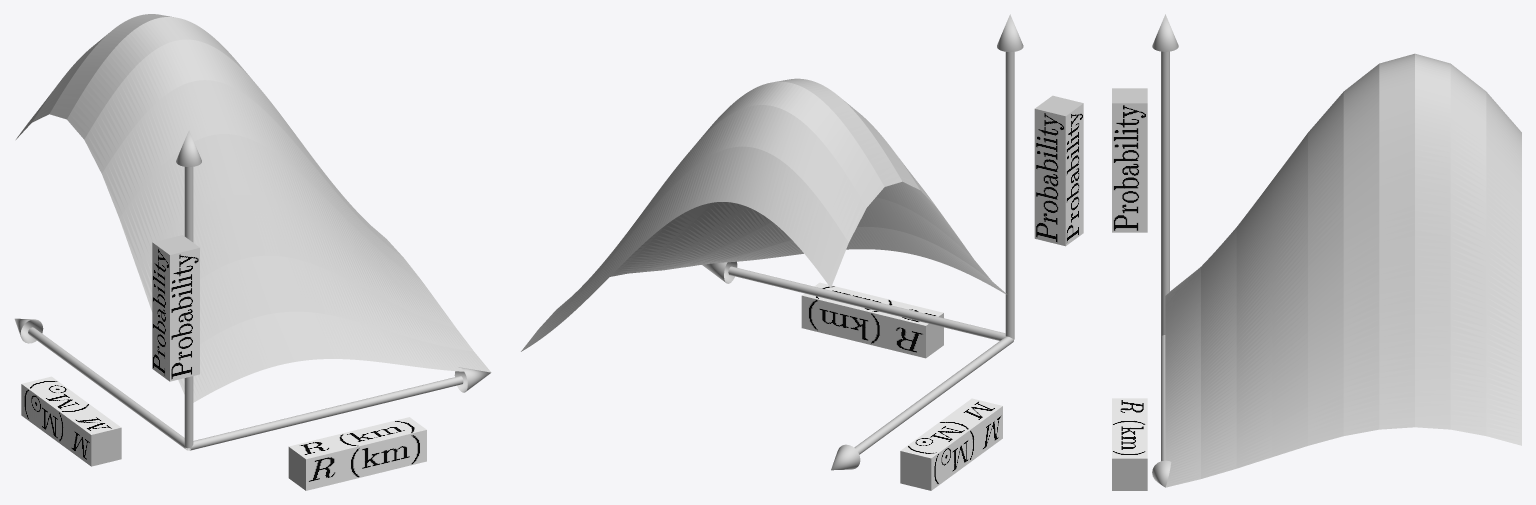
The model's file is den_plot.gltf.
3 renders of one model, left to right at view 1: azimuth 30°, elevation 25°; view 2: azimuth 150°, elevation 25°; view 3: azimuth 270°, elevation 25°, orthographic. The views are drawn at different scales.
Parts seen in each view (by area): view 1: plot, z_title, x_title, y_title, x_axis1, y_axis1, z_axis1; view 2: plot, z_title, x_title, y_title, z_axis1, x_axis1, y_axis1; view 3: plot, z_title, x_title, z_axis1, x_axis1.
Part boxes in pixels (x1=…): plot: x1=16, y1=14, x2=490, y2=402; z_title: x1=152, y1=235, x2=199, y2=381; x_title: x1=288, y1=417, x2=426, y2=490; y_title: x1=21, y1=376, x2=121, y2=466; x_axis1: x1=188, y1=367, x2=490, y2=450; y_axis1: x1=14, y1=318, x2=191, y2=450; z_axis1: x1=176, y1=130, x2=201, y2=448; plot: x1=521, y1=78, x2=1006, y2=351; z_title: x1=1034, y1=95, x2=1083, y2=246; x_title: x1=801, y1=282, x2=943, y2=358; y_title: x1=900, y1=398, x2=1002, y2=490; z_axis1: x1=997, y1=14, x2=1023, y2=339; x_axis1: x1=702, y1=261, x2=1005, y2=340; y_axis1: x1=831, y1=336, x2=1013, y2=470; plot: x1=1165, y1=53, x2=1521, y2=487; z_title: x1=1112, y1=88, x2=1147, y2=232; x_title: x1=1112, y1=398, x2=1147, y2=490; z_axis1: x1=1152, y1=14, x2=1178, y2=336; x_axis1: x1=1152, y1=335, x2=1171, y2=487.
Size of the model in its own units: 1.15 by 1.15 by 1.15.
4 materials, 3 textured.
